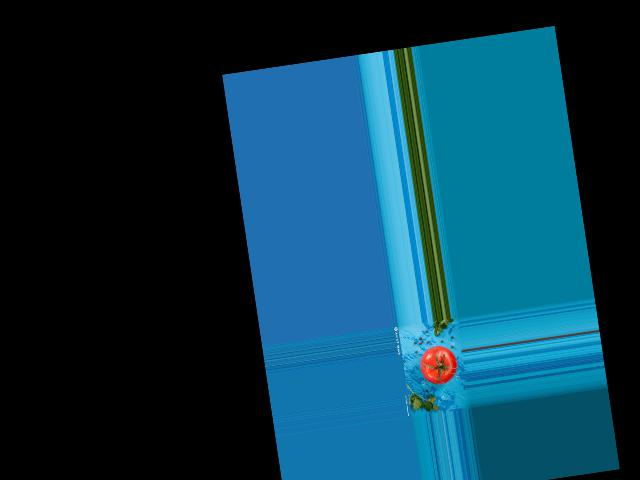tomato: (417, 344, 459, 387)
